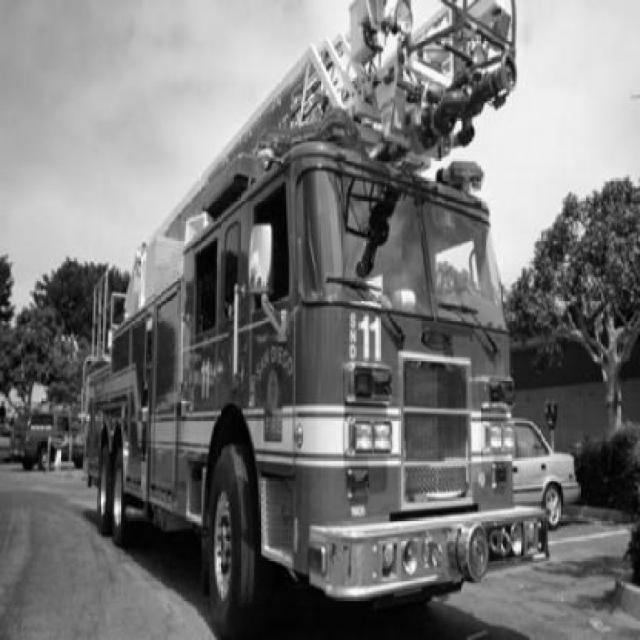Fire Truck: (81, 0, 552, 640)
